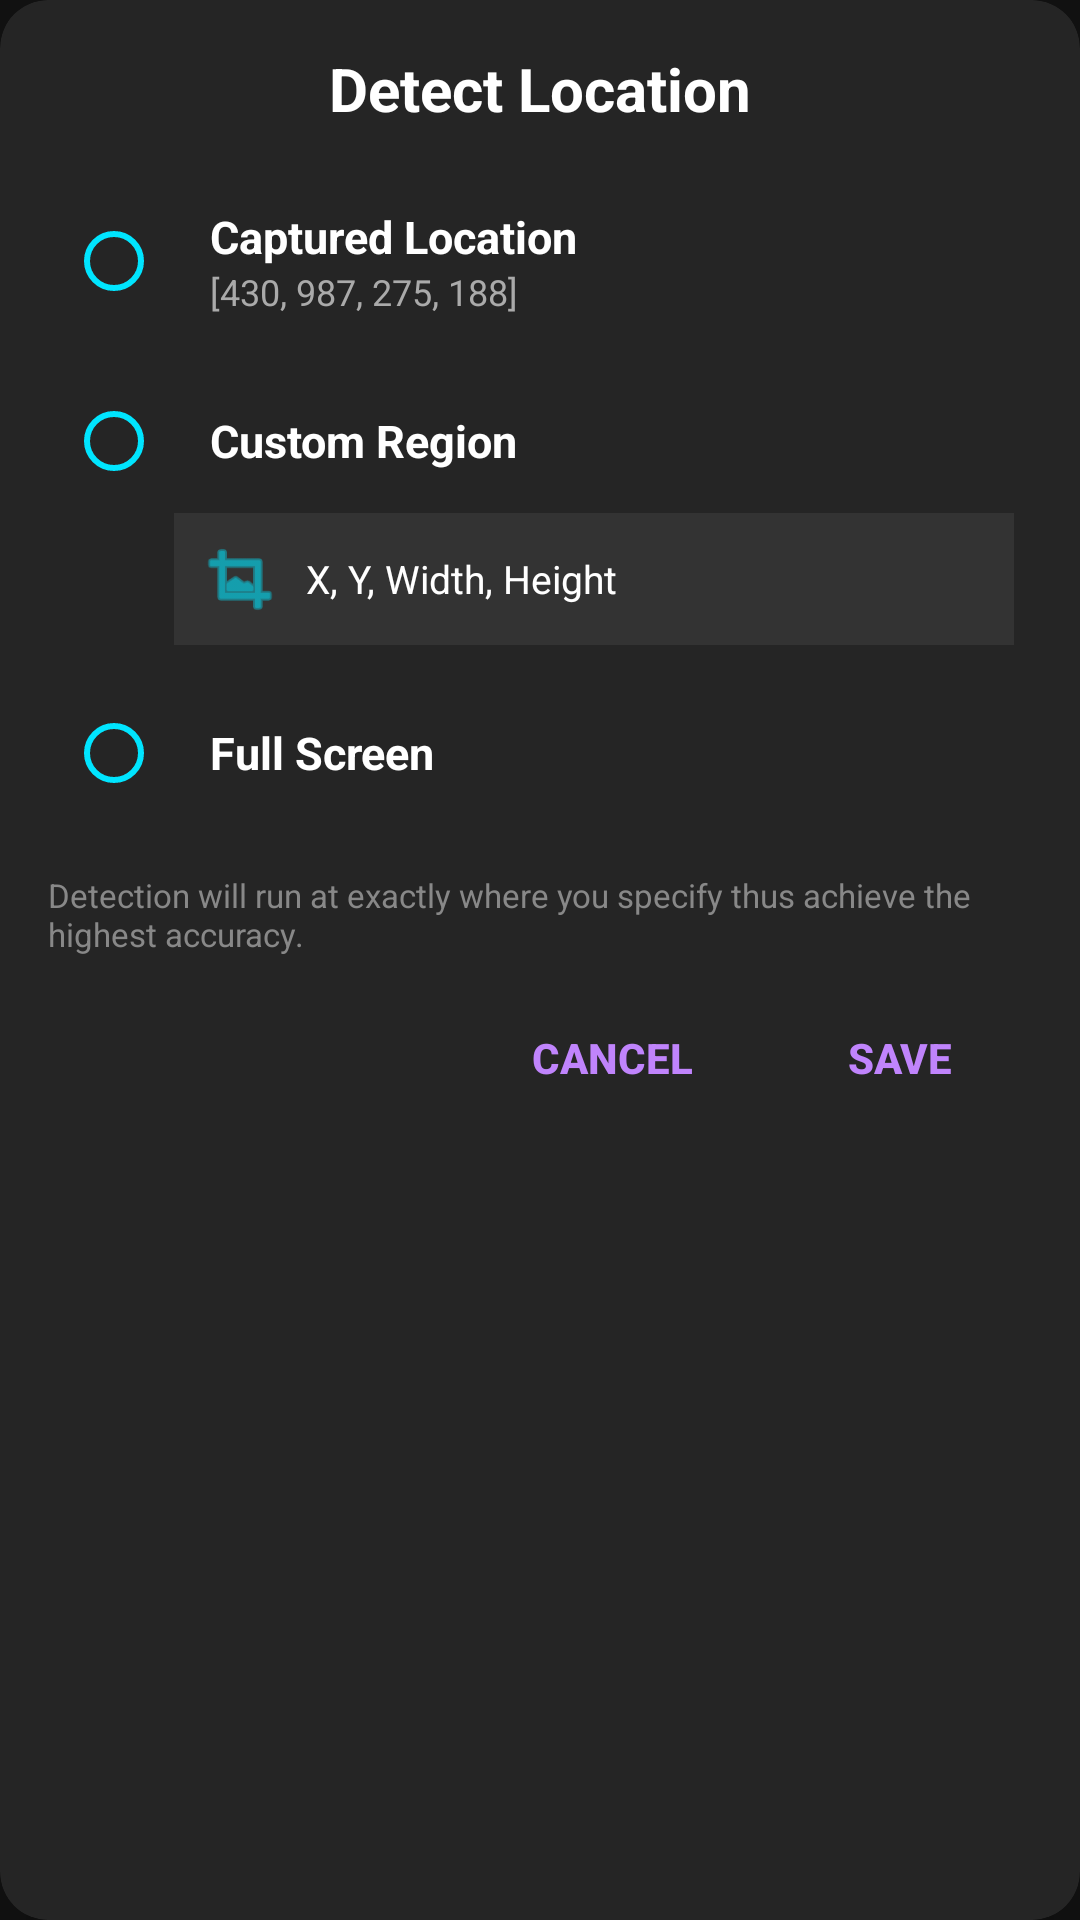

Icon click points for this 1080 x 1920 phone screenshot, format point (x, y):
crop: point (240, 579)
